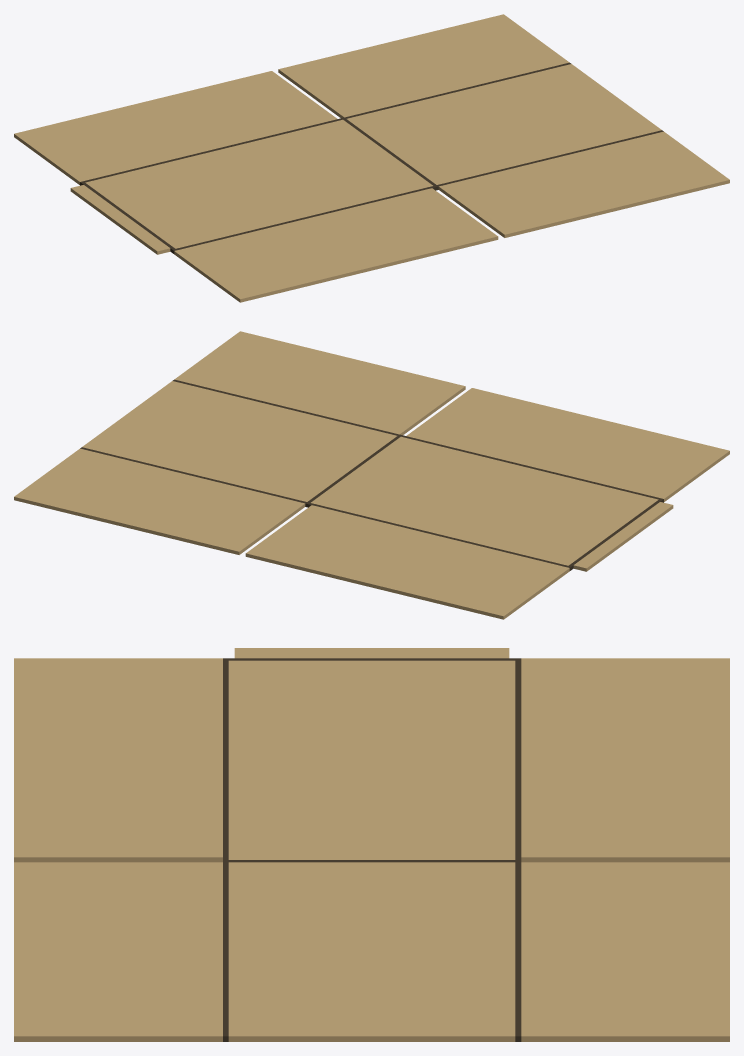
File: box_large_folded.glb
3 renders of one model, top to bottom at view 1: azimuth 30°, elevation 25°; view 2: azimuth 150°, elevation 25°; view 3: azimuth 270°, elevation 25°, orthographic. The views are drawn at different scales.
Visible parts, largest first — view 1: box_large_folded:compound; view 2: box_large_folded:compound; view 3: box_large_folded:compound.
Boxes of the visible parts, x1,y1,x2,y2 form: box_large_folded:compound: [14, 14, 729, 302]; box_large_folded:compound: [14, 331, 729, 619]; box_large_folded:compound: [14, 648, 729, 1041].
Size of the model in its own units: 1.54 by 0.01 by 1.2.
